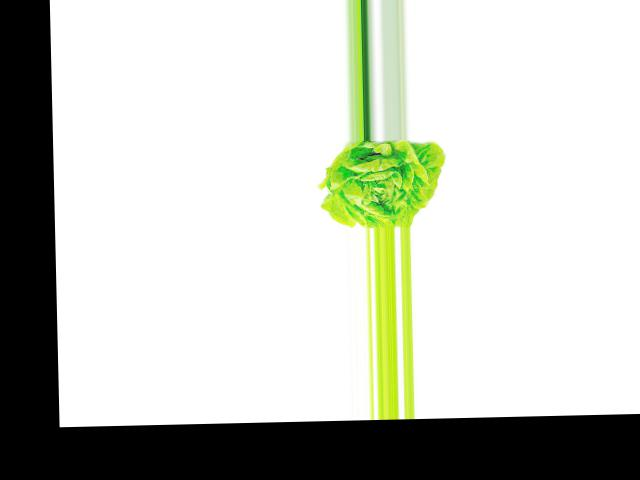lettuce: (322, 138, 449, 228)
